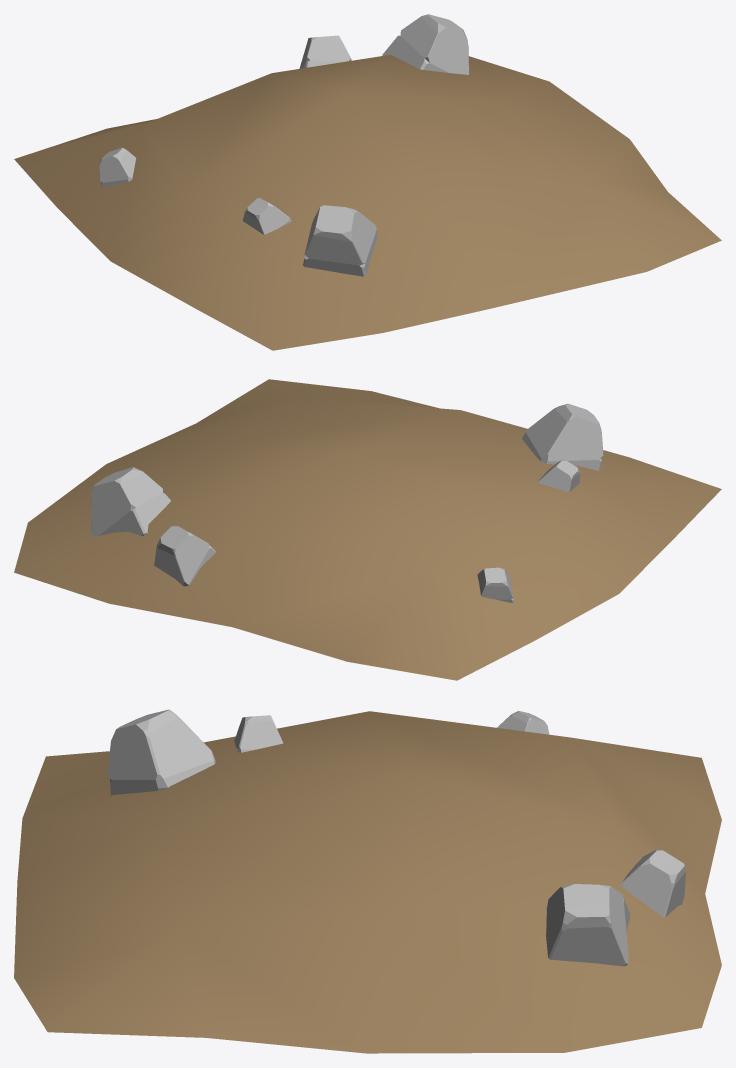
Rendered from Debris1.fbx.
3 renders of one model, top to bottom at view 1: azimuth 30°, elevation 25°; view 2: azimuth 150°, elevation 25°; view 3: azimuth 270°, elevation 25°, orthographic. The views are drawn at different scales.
Parts seen in each view (by area): view 1: debris1; view 2: debris1; view 3: debris1.
Boxes of the visible parts, left/top/right/bottom form: debris1: left=14, top=14, right=721, bottom=350; debris1: left=14, top=379, right=721, bottom=680; debris1: left=14, top=709, right=721, bottom=1053.
Bounding box in the file's own units: 428 × 72.69 × 406.
